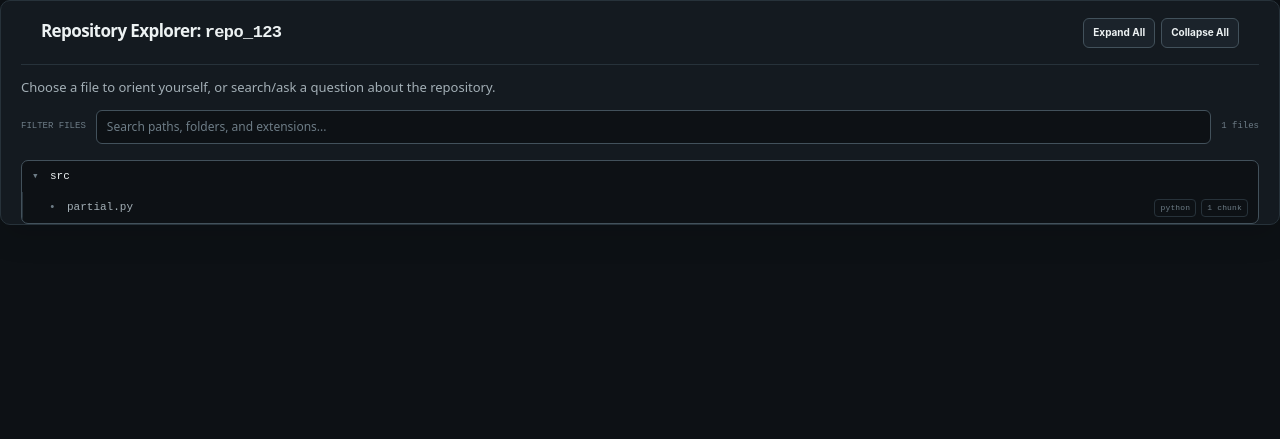
Test: RepoExplorerPanel - Component Integration & State Tests › renders unverified end-of-file boundary notice when is_complete is false
Step 1. Click the text "partial.py" → (100,208), box [67,199,133,216]
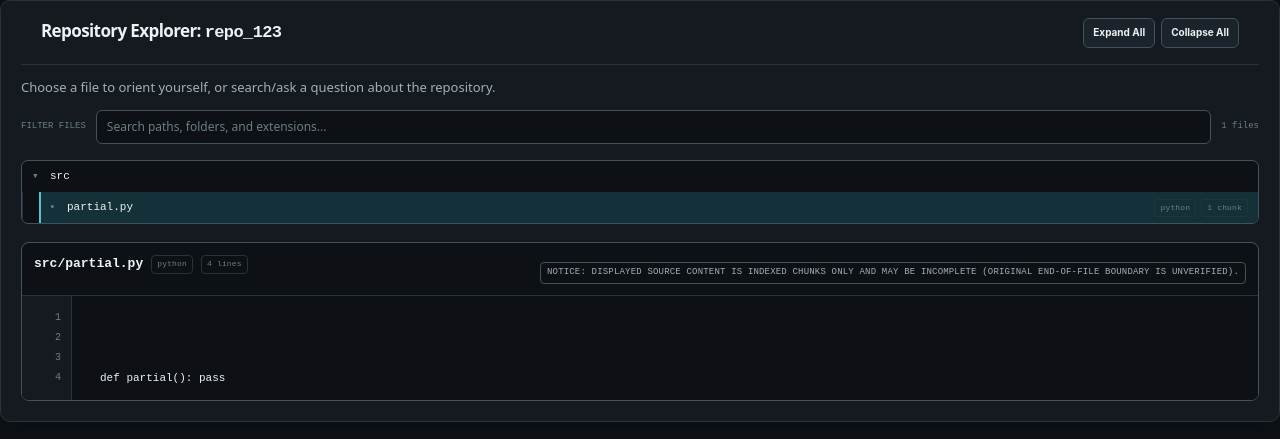
expect the text with test id "partial-content-notice" is shown: met, box [540,262,1246,284]
expect the text "original end-of-file boundary is unverified" is shown: met, box [547,267,1239,277]
